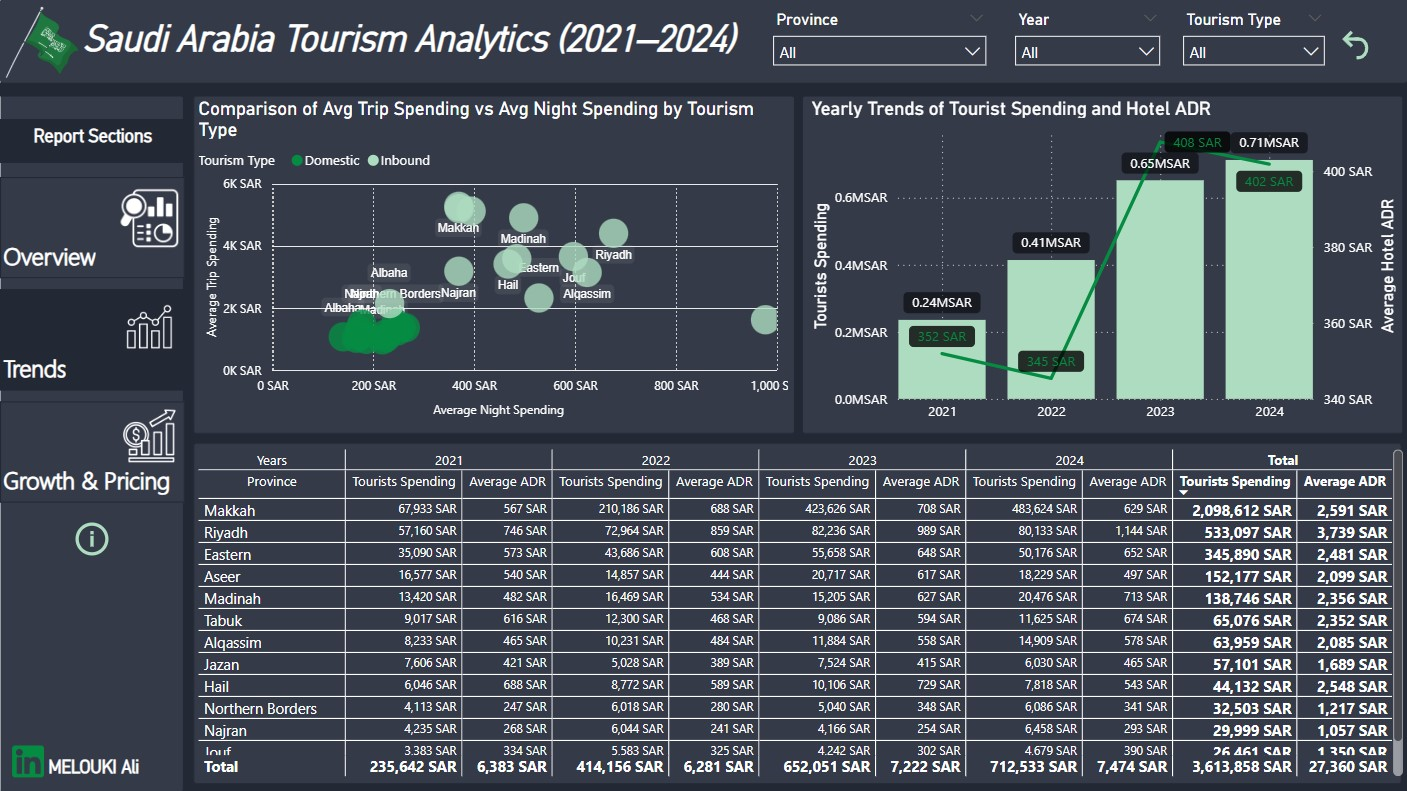

Layout of this report page (visuals, bound fields, positions):
{"tool":"powerbi","page":{"name":"Trends","canvas":[1280,720],"ordinal":1},"visuals":[{"type":"scatterChartByAkvelon6CFB0DAB29E746BE850B6DFD1E2789FD","title":"Comparison of Avg Trip Spending vs Avg Night Spending by Tourism Type","fields":{"X":["public tourism_data.Avg Night Spending"],"Y":["public tourism_data.Avg Trip Spending"],"Legend":["public tourism_data.tourism_type"],"Category":["ProvinceTable.Province"]},"box":[175.1,89.5,545.7,304.4],"z":0},{"type":"pivotTable","fields":{"Values":["Sum(public tourism_data.tourists_spending)","Sum(public adr_data.avg_adr)"],"Rows":["ProvinceTable.Province"],"Columns":["public adr_data.years"]},"box":[175.1,404.6,1104.9,307.4],"z":1000},{"type":"lineStackedColumnComboChart","title":"Yearly Trends of Tourist Spending and Hotel ADR","fields":{"Category":["public adr_data.years"],"Y2":["public adr_data.Avg Hotel ADR"],"Y":["Sum(public tourism_data.tourists_spending)"]},"box":[732.4,89.5,540.8,304.4],"z":2000},{"type":"pageNavigator","box":[0,162.1,168.6,298.6],"z":3000},{"type":"image","box":[102,166,67,66],"z":4000},{"type":"image","box":[102,270,67,56],"z":5000},{"type":"image","box":[102,368,67,58],"z":6000},{"type":"slicer","fields":{"Values":["public tourism_data.tourism_type"]},"box":[1065,5,149,74],"z":7000},{"type":"slicer","fields":{"Values":["public adr_data.years"]},"box":[913,5,152,74],"z":8000},{"type":"slicer","fields":{"Values":["ProvinceTable.Province"]},"box":[693,5,214,74],"z":9000},{"type":"textbox","box":[51,11,642,68],"z":10000},{"type":"image","box":[0,0,77,79],"z":11000},{"type":"textbox","box":[0,109,169,40],"z":12000},{"type":"actionButton","box":[64,471,41,40],"z":13000},{"type":"actionButton","box":[1214.3,21.4,35.7,40],"z":14000},{"type":"image","box":[0,674,50,39],"z":15000},{"type":"textbox","box":[39,683,107,37],"z":16000}]}

Visuals, with their boxes on the page's 1280x720 design canvas (x1, y1, x2, y2). These are canvas units, not pixel positions in the 1407x791 screenshot, which may show the page scaled, cropped or inside an application window:
"Comparison of Avg Trip Spending vs Avg Night Spending by Tourism Type" scatterChartByAkvelon6CFB0DAB29E746BE850B6DFD1E2789FD: select_region(175, 90, 721, 394)
pivotTable - Sum(public tourism_data.tourists_spending) x Sum(public adr_data.avg_adr): select_region(175, 405, 1280, 712)
"Yearly Trends of Tourist Spending and Hotel ADR" lineStackedColumnComboChart: select_region(732, 90, 1273, 394)
pageNavigator: select_region(0, 162, 169, 461)
image: select_region(102, 166, 169, 232)
image: select_region(102, 270, 169, 326)
image: select_region(102, 368, 169, 426)
slicer - public tourism_data.tourism_type: select_region(1065, 5, 1214, 79)
slicer - public adr_data.years: select_region(913, 5, 1065, 79)
slicer - ProvinceTable.Province: select_region(693, 5, 907, 79)
textbox: select_region(51, 11, 693, 79)
image: select_region(0, 0, 77, 79)
textbox: select_region(0, 109, 169, 149)
actionButton: select_region(64, 471, 105, 511)
actionButton: select_region(1214, 21, 1250, 61)
image: select_region(0, 674, 50, 713)
textbox: select_region(39, 683, 146, 720)
